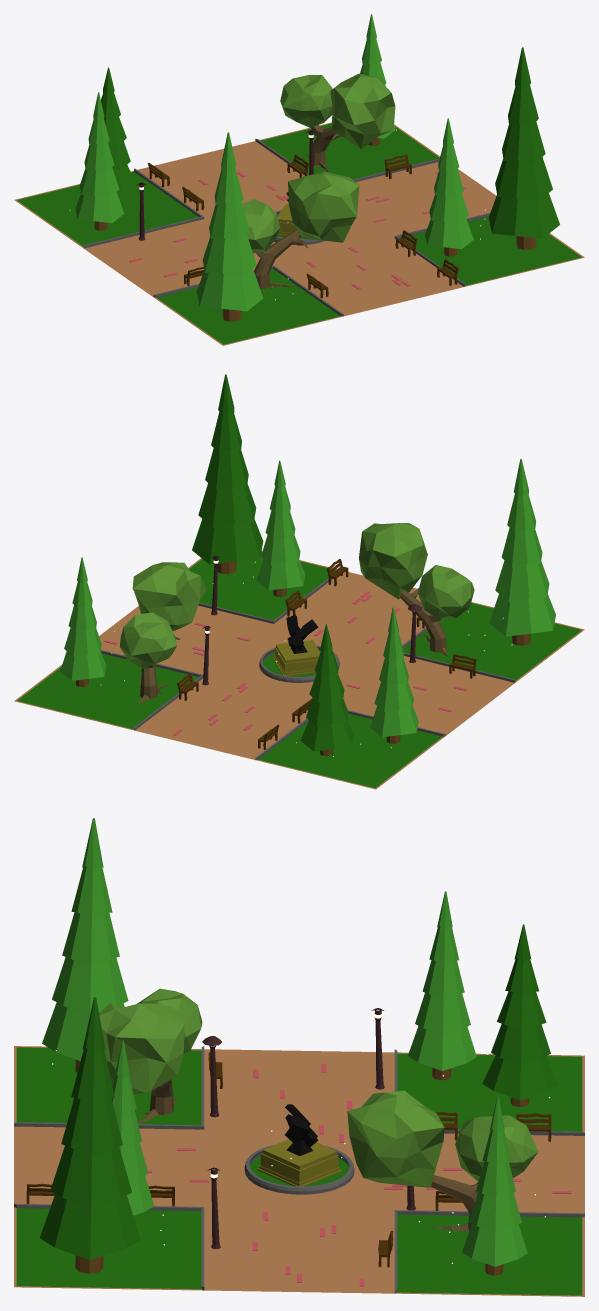
The model's file is parque.glb.
3 views of the same model, one above another, from view 1: azimuth 30°, elevation 25°; view 2: azimuth 150°, elevation 25°; view 3: azimuth 270°, elevation 25° (orthographic). The views are drawn at different scales.
Parts seen in each view (by area): view 1: camino_2, Grama_22, Arbol.003_6, Arboltipo2_8, Arboltipo2.001_9, Arbol.005_7, Arbol.001_4, Arbol.008_26, camino.001_30, Arbol_3, Arbol.002_5, LadrilloPiso.017_31; view 2: camino_2, Grama_22, Arboltipo2_8, Arbol.003_6, Arboltipo2.001_9, Arbol.005_7, Arbol_3, Arbol.001_4, Arbol.008_26, Arbol.002_5, camino.001_30, Base Monumt.002_32 (+2 smaller); view 3: camino_2, Grama_22, Arbol.003_6, Arboltipo2.001_9, Arbol.005_7, Arboltipo2_8, Arbol_3, Arbol.001_4, Arbol.002_5, camino.001_30, Arbol.008_26, Base Monumt.002_32 (+3 smaller).
Part boxes in pixels (left/top/right/bottom): camino_2: left=14, top=122, right=584, bottom=345; Grama_22: left=17, top=123, right=581, bottom=344; Arbol.003_6: left=488, top=47, right=559, bottom=249; Arboltipo2_8: left=242, top=171, right=359, bottom=289; Arboltipo2.001_9: left=280, top=73, right=395, bottom=172; Arbol.005_7: left=196, top=132, right=263, bottom=311; Arbol.001_4: left=75, top=92, right=123, bottom=230; Arbol.008_26: left=425, top=118, right=473, bottom=256; camino.001_30: left=83, top=138, right=490, bottom=316; Arbol_3: left=101, top=67, right=136, bottom=195; Arbol.002_5: left=360, top=14, right=395, bottom=145; LadrilloPiso.017_31: left=129, top=171, right=466, bottom=289; camino_2: left=14, top=551, right=584, bottom=789; Grama_22: left=17, top=551, right=581, bottom=788; Arboltipo2_8: left=359, top=523, right=474, bottom=656; Arbol.003_6: left=192, top=374, right=263, bottom=574; Arboltipo2.001_9: left=120, top=562, right=206, bottom=703; Arbol.005_7: left=489, top=459, right=555, bottom=636; Arbol_3: left=300, top=624, right=354, bottom=756; Arbol.001_4: left=370, top=607, right=418, bottom=743; Arbol.008_26: left=256, top=460, right=305, bottom=596; Arbol.002_5: left=60, top=557, right=106, bottom=687; camino.001_30: left=100, top=578, right=515, bottom=759; Base Monumt.002_32: left=272, top=640, right=320, bottom=676; camino_2: left=14, top=1046, right=584, bottom=1296; Grama_22: left=16, top=1047, right=582, bottom=1295; Arbol.003_6: left=40, top=997, right=140, bottom=1273; Arboltipo2.001_9: left=347, top=1090, right=538, bottom=1231; Arbol.005_7: left=42, top=818, right=128, bottom=1060; Arboltipo2_8: left=99, top=988, right=202, bottom=1123; Arbol_3: left=482, top=924, right=558, bottom=1106; Arbol.001_4: left=408, top=891, right=476, bottom=1080; Arbol.002_5: left=462, top=1095, right=527, bottom=1275; camino.001_30: left=14, top=1046, right=584, bottom=1293; Arbol.008_26: left=112, top=1040, right=154, bottom=1215; Base Monumt.002_32: left=257, top=1139, right=341, bottom=1186.
Size of the model in its own units: 18.98 by 10.9 by 18.98.
